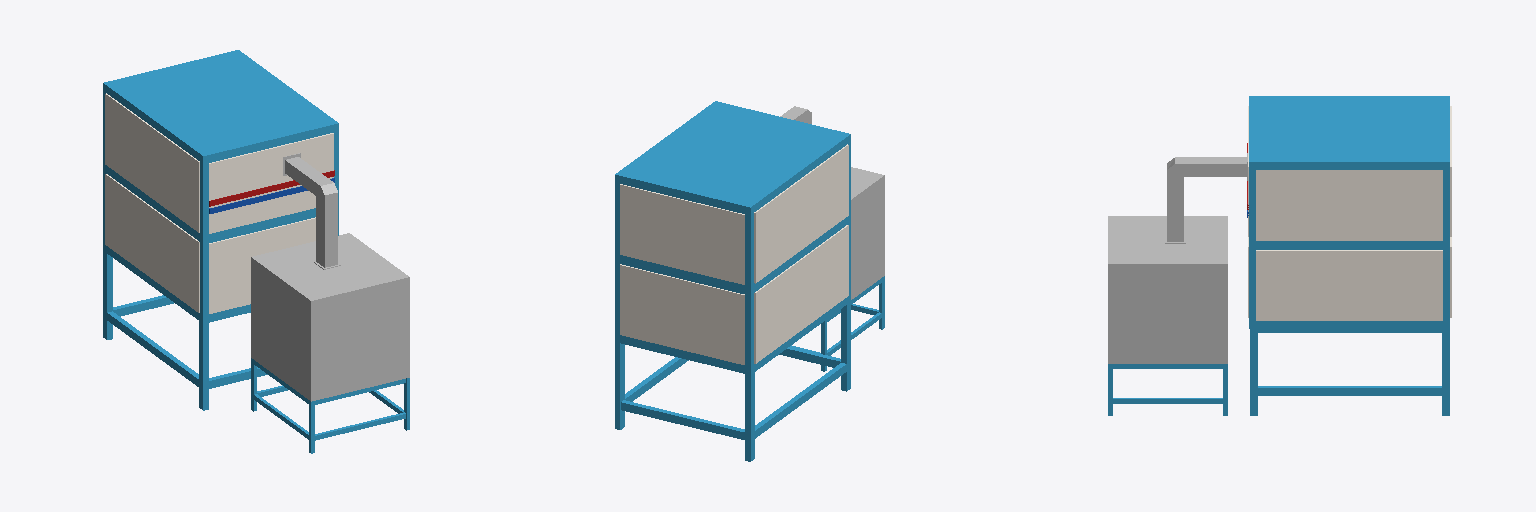
File: microwave_system.obj
3 views of the same model, side by side, from view 1: azimuth 30°, elevation 25°; view 2: azimuth 150°, elevation 25°; view 3: azimuth 270°, elevation 25° (orthographic).
Parts seen in each view (by area): view 1: ___, ___.13, ___.14, ___.11, ___.12, ___.5, ___.3, ___.4, ___.8, ___.7, ___.9, ___.18 (+1 smaller); view 2: ___, ___.16, ___.15, ___.14, ___.13, ___.5, ___.8, ___.4, ___.3, ___.1, ___.6, ___.7; view 3: ___, ___.10, ___.9, ___.6, ___.1, ___.2, ___.5.
Part boxes in pixels (x1,y1,x2,y2): ___: (103, 50, 409, 401); ___.13: (105, 93, 199, 232); ___.14: (105, 174, 199, 312); ___.11: (209, 133, 333, 403); ___.12: (209, 217, 315, 313); ___.5: (107, 311, 308, 439); ___.3: (199, 321, 314, 453); ___.4: (103, 251, 256, 411); ___.8: (113, 295, 405, 404); ___.7: (209, 367, 287, 396); ___.9: (315, 412, 405, 440); ___.18: (209, 178, 334, 213); ___: (615, 101, 884, 374); ___.16: (620, 184, 744, 284); ___.15: (620, 264, 744, 364); ___.14: (754, 225, 848, 363); ___.13: (754, 144, 848, 283); ___.5: (755, 312, 881, 438); ___.8: (621, 400, 744, 439); ___.4: (745, 320, 826, 461); ___.3: (841, 276, 884, 391); ___.1: (615, 342, 624, 429); ___.6: (625, 357, 688, 401); ___.7: (779, 345, 840, 367); ___: (1108, 96, 1449, 363); ___.10: (1113, 170, 1442, 368); ___.9: (1256, 250, 1442, 320); ___.6: (1113, 386, 1441, 403); ___.1: (1165, 235, 1449, 415); ___.2: (1108, 153, 1257, 415); ___.5: (1258, 329, 1441, 332).
Bounding box in the file's own units: 204 × 359 × 440.